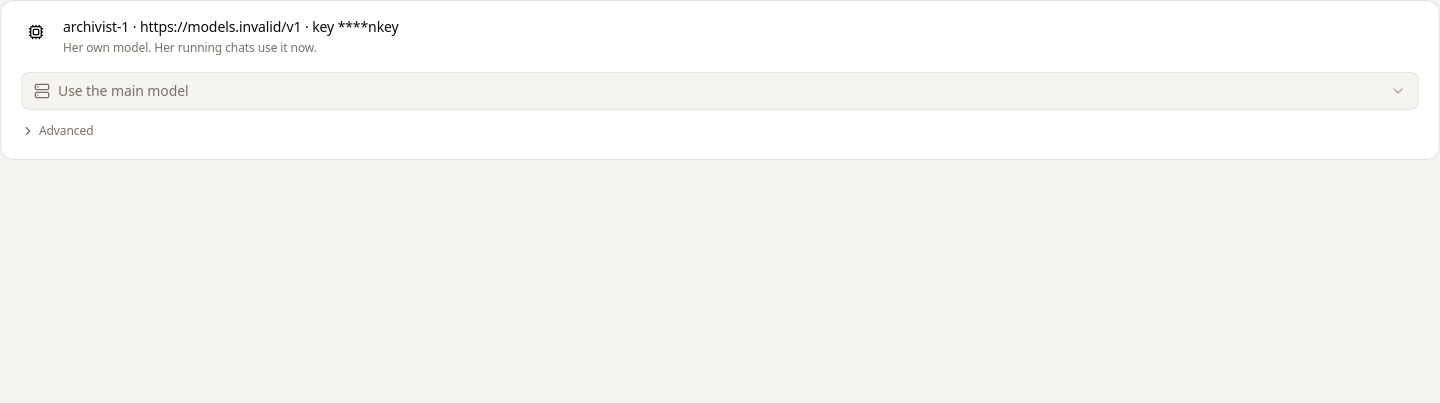
Test: QueenModelSection › edits her model as JSON and returns her to the main model
The width and height of the screenshot is (1440, 403).
Step 1. Click the button "Advanced" → (57, 131), box [21, 122, 93, 139]
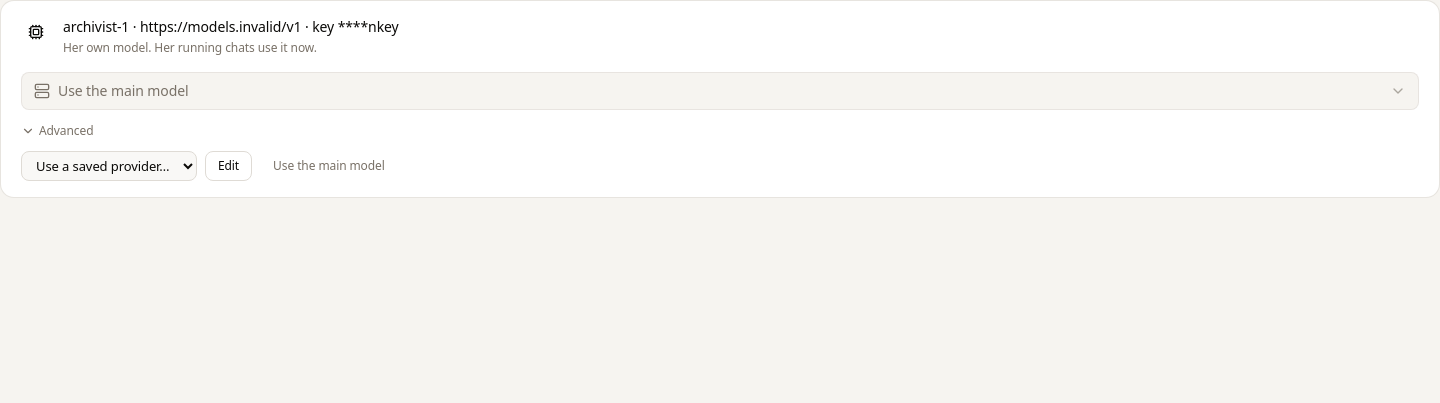
Step 2. Click the button "Edit" → (229, 166), box [205, 151, 252, 181]
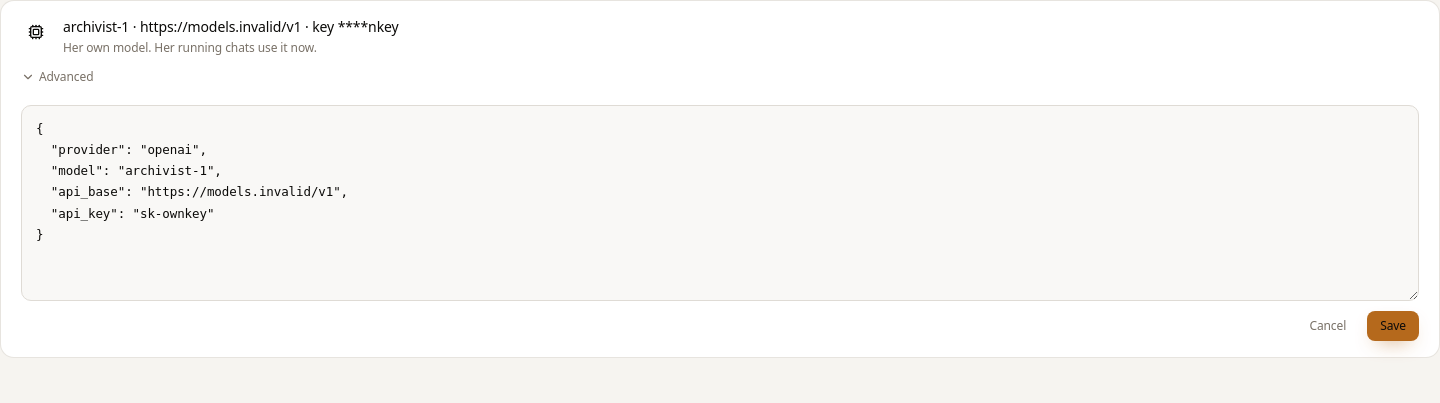
Step 3. Replace the text in the text box named "Her model, as JSON" with "not json" → (720, 203), box [21, 105, 1419, 301]
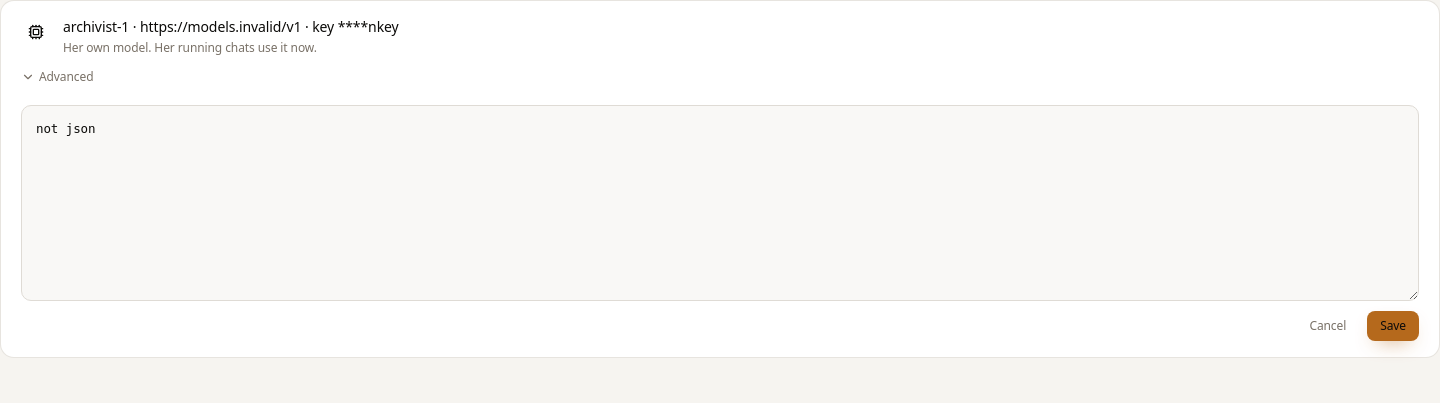
Step 4. Click the button "Save" → (1393, 326), box [1367, 311, 1419, 341]
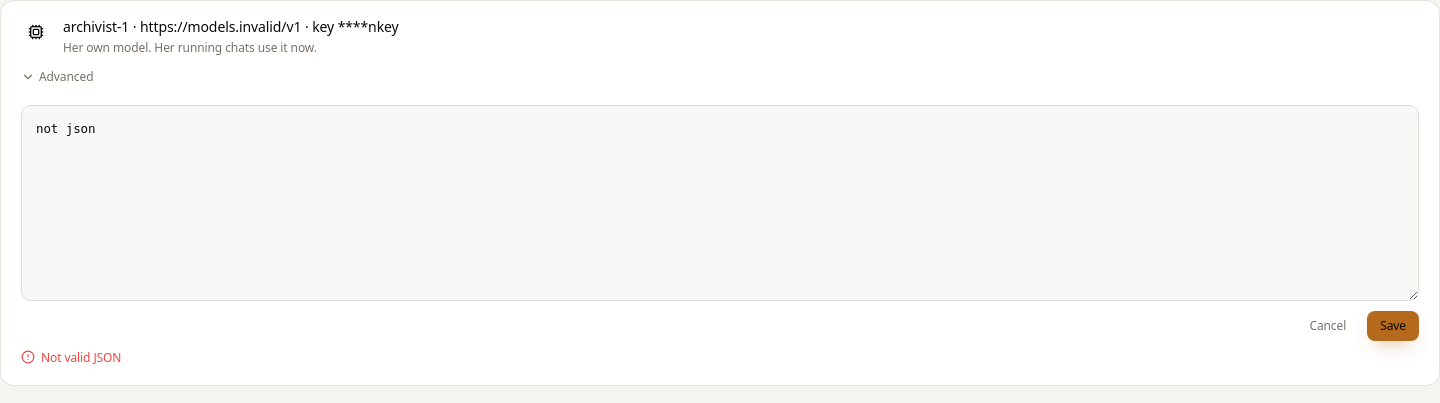
expect the text "Not valid JSON" is shown: met, box [21, 349, 121, 366]
Step 5. Click the button "Cancel" → (1328, 326), box [1296, 311, 1359, 341]
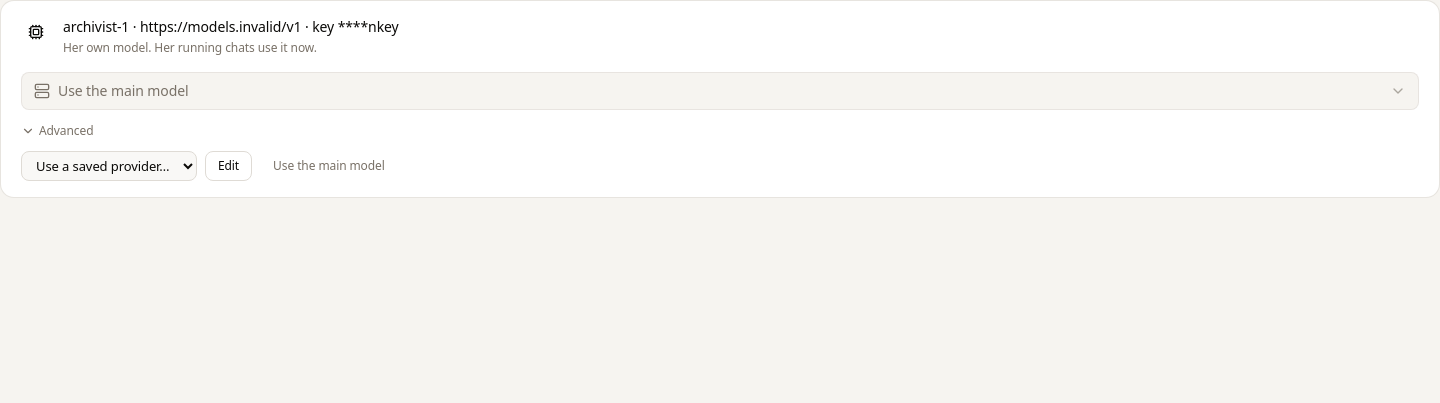
Step 6. Click the 2nd button "Use the main model" → (329, 166), box [260, 151, 398, 181]
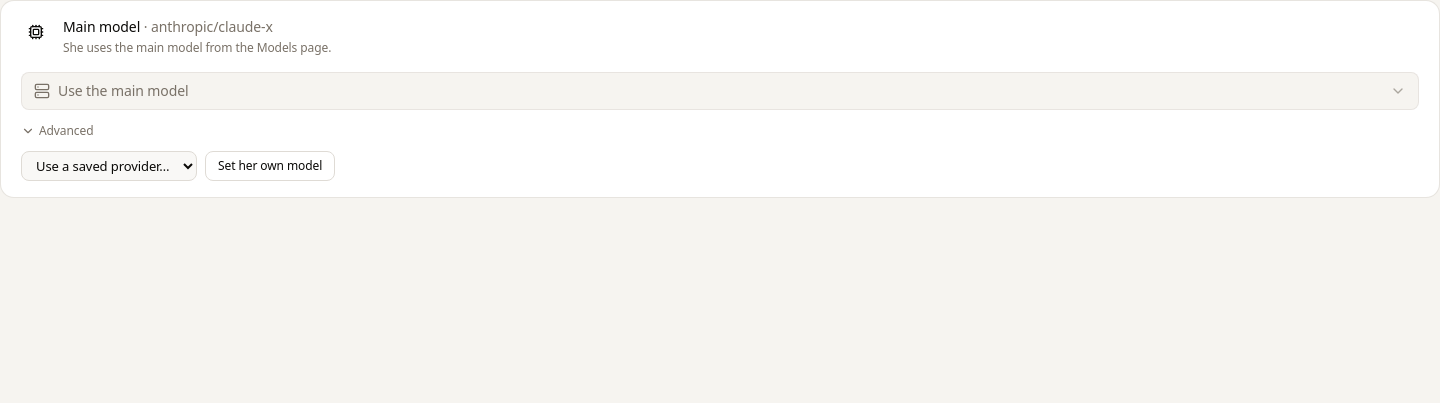
expect the text "She uses the main model from the Models page." is shown: met, box [63, 39, 331, 56]
